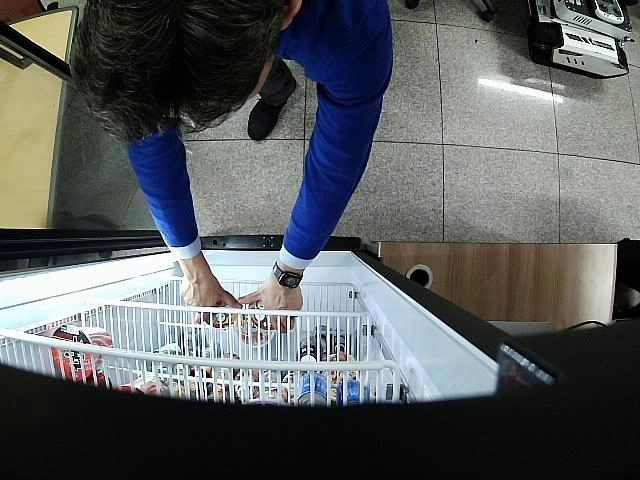06_nuguri_S: (205, 302, 238, 330), (249, 300, 274, 330)
